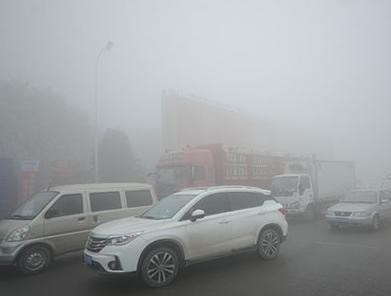bus: (144, 144, 316, 221), (268, 159, 357, 222)
car: (81, 183, 290, 292), (2, 180, 164, 278), (324, 185, 391, 229)
